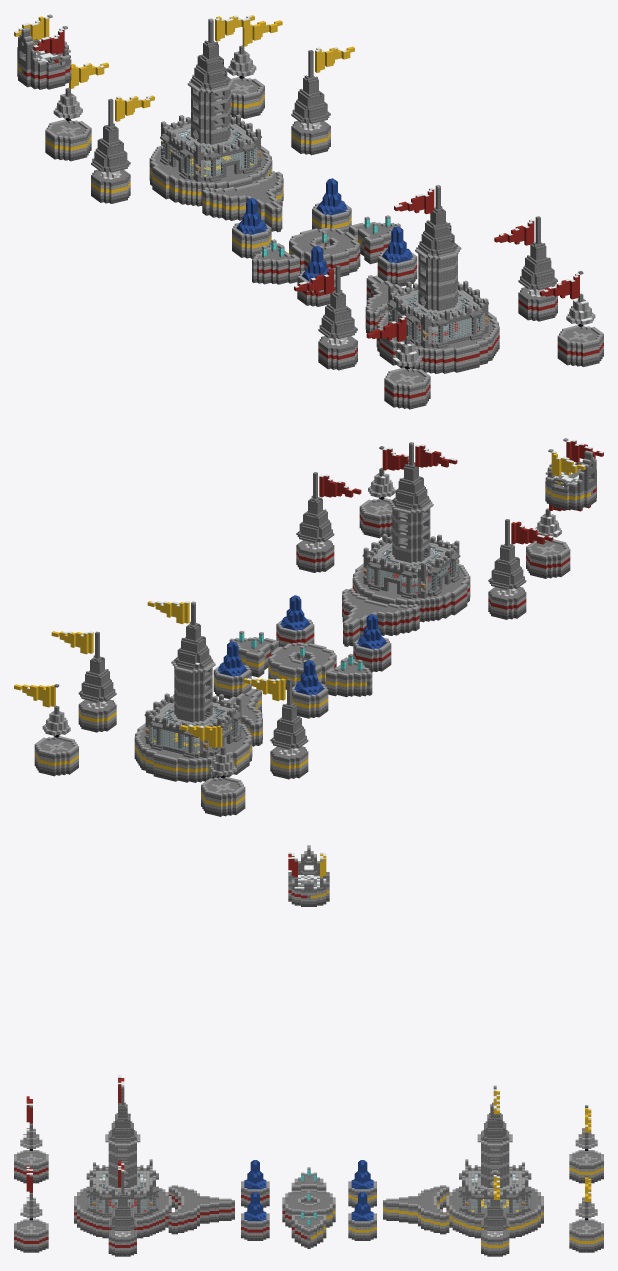
Rendered from minecraft.obj.
3 renders of one model, top to bottom at view 1: azimuth 30°, elevation 25°; view 2: azimuth 150°, elevation 25°; view 3: azimuth 270°, elevation 25°, orthographic. The views are drawn at different scales.
Bounding box in the file's own units: 1340 × 885 × 1870.
